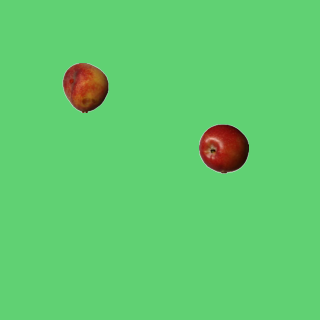Apple Braeburn: (198, 123, 248, 173)
Peach: (60, 62, 110, 112)
